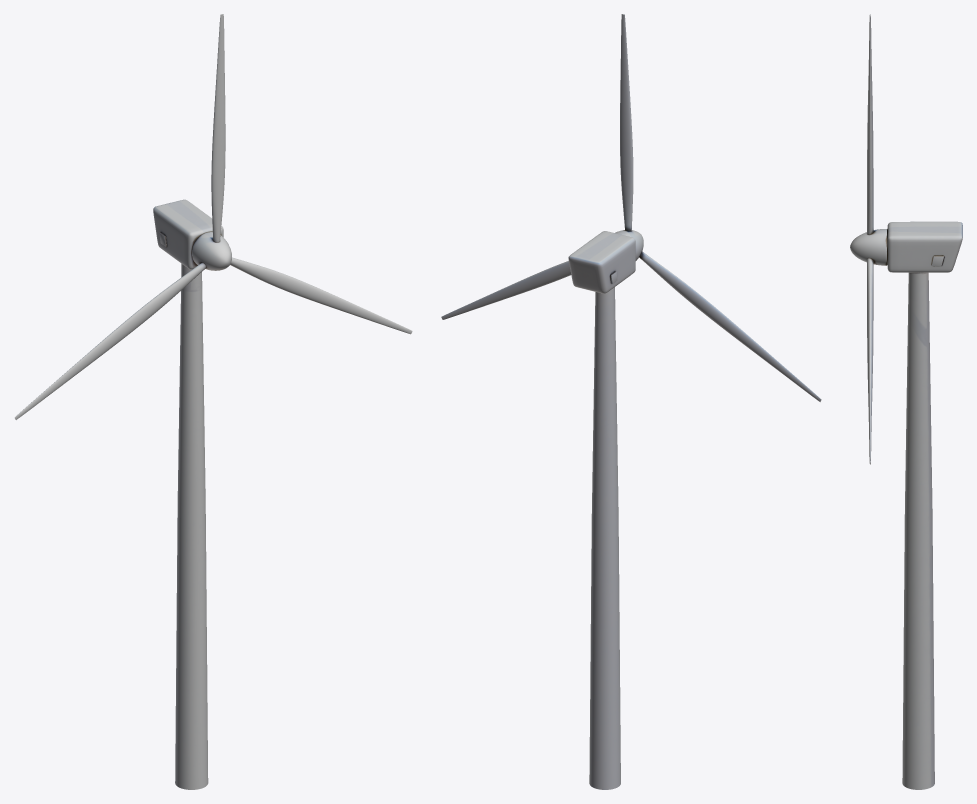
File: windturbine.glb
The picture shows the model from 3 angles, left to right: view 1: azimuth 30°, elevation 25°; view 2: azimuth 150°, elevation 25°; view 3: azimuth 270°, elevation 25°; orthographic projection. The views are drawn at different scales.
Visible parts, largest first — view 1: Cube, Cube.001; view 2: Cube, Cube.001; view 3: Cube, Cube.001.
Boxes of the visible parts, bbox=[...] form: Cube: bbox=[153, 199, 223, 789]; Cube.001: bbox=[14, 14, 412, 419]; Cube: bbox=[568, 231, 635, 789]; Cube.001: bbox=[441, 14, 821, 401]; Cube: bbox=[887, 221, 962, 789]; Cube.001: bbox=[850, 14, 887, 464].
Size of the model in its own units: 0.607 by 1.14 by 0.1517.
1 material, 1 textured.
